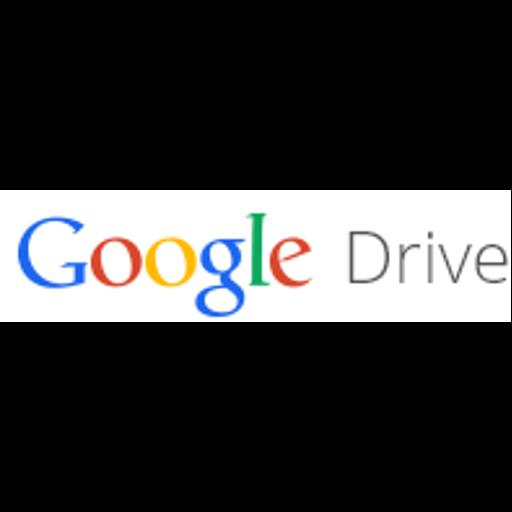Google: (0, 190, 511, 322)
